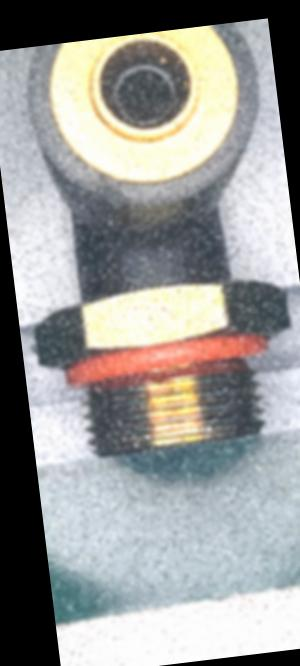bump: (74, 171, 135, 212)
joint line: (145, 239, 165, 288)
